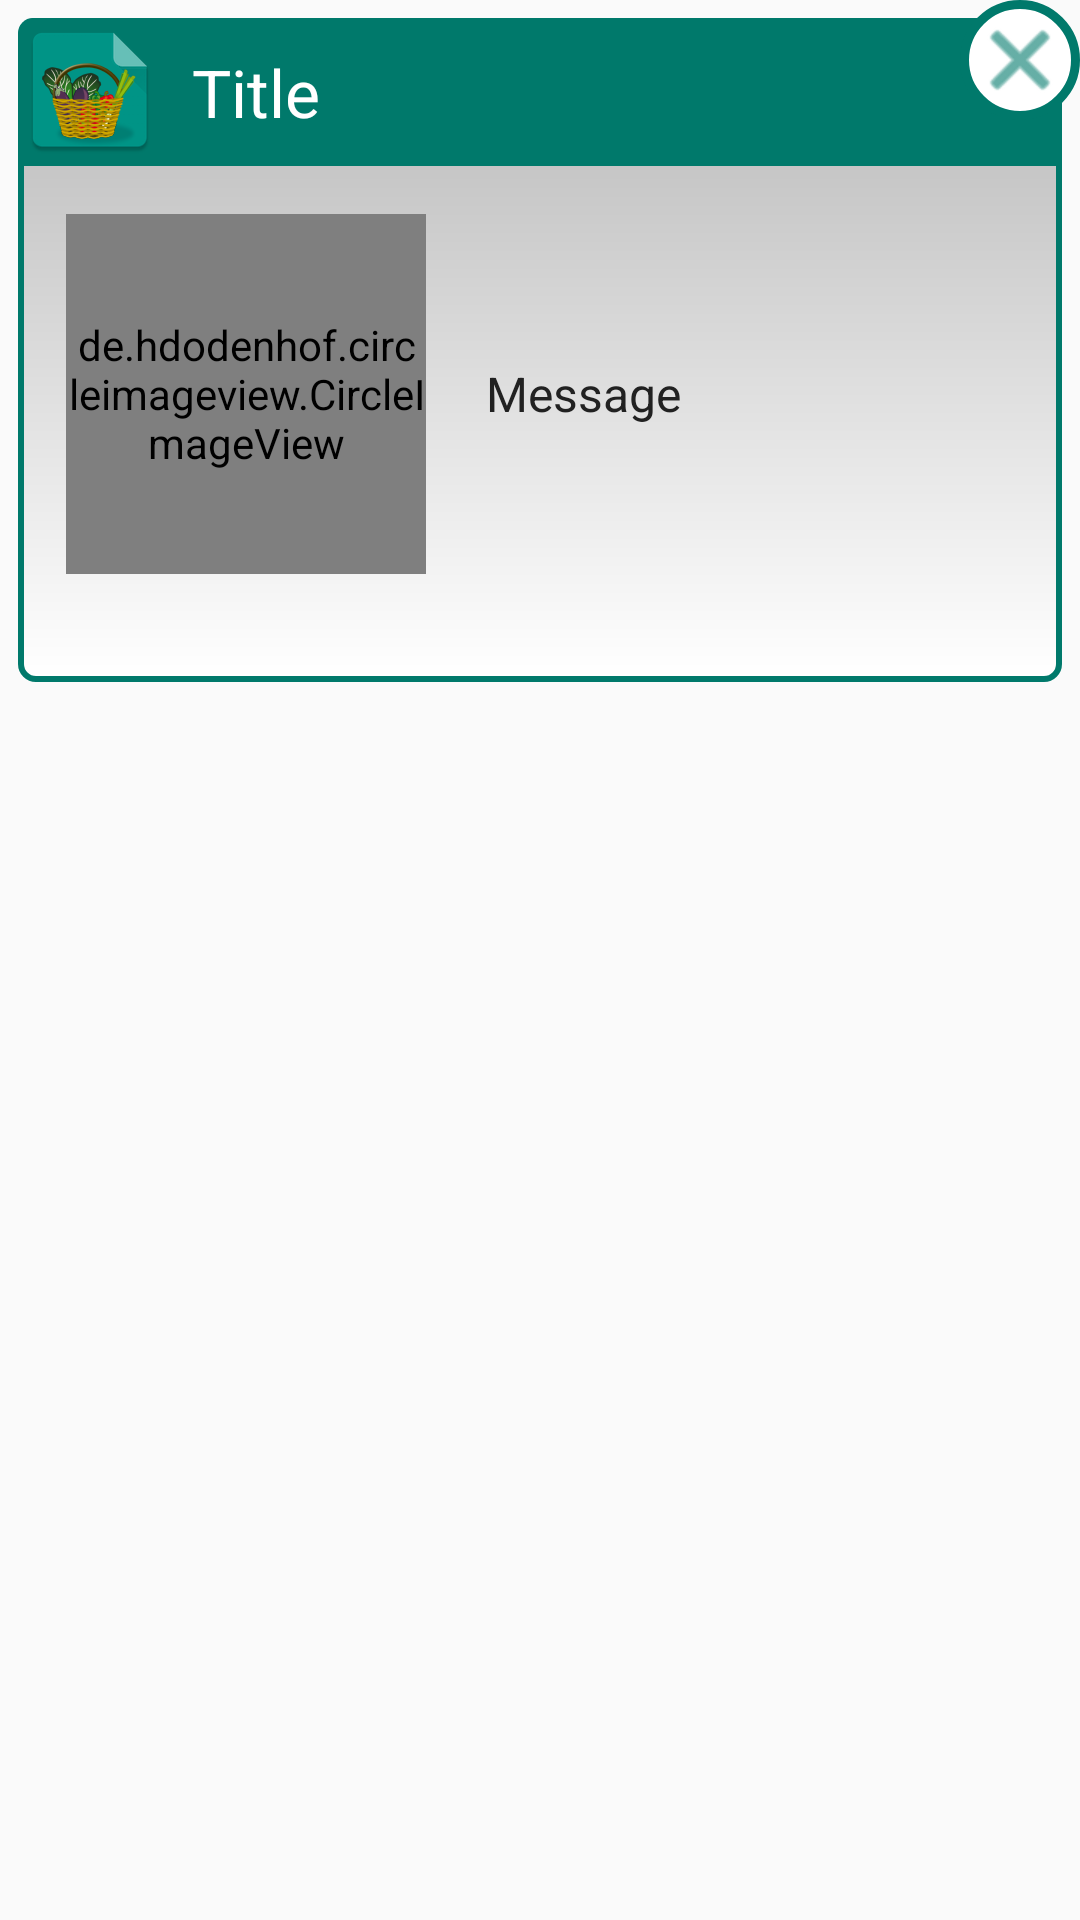

Where to tap for icons on this 1080×1920 app screen, as [x,y]:
close clear cancel: [1024,55]
